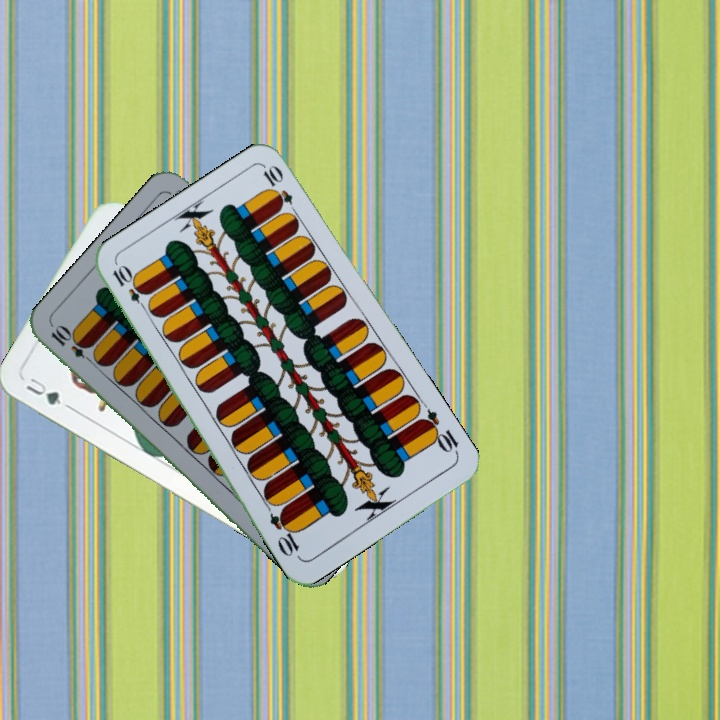E10: (415, 405, 462, 458), (47, 322, 99, 368), (108, 261, 152, 315)
GU: (22, 373, 73, 412)
